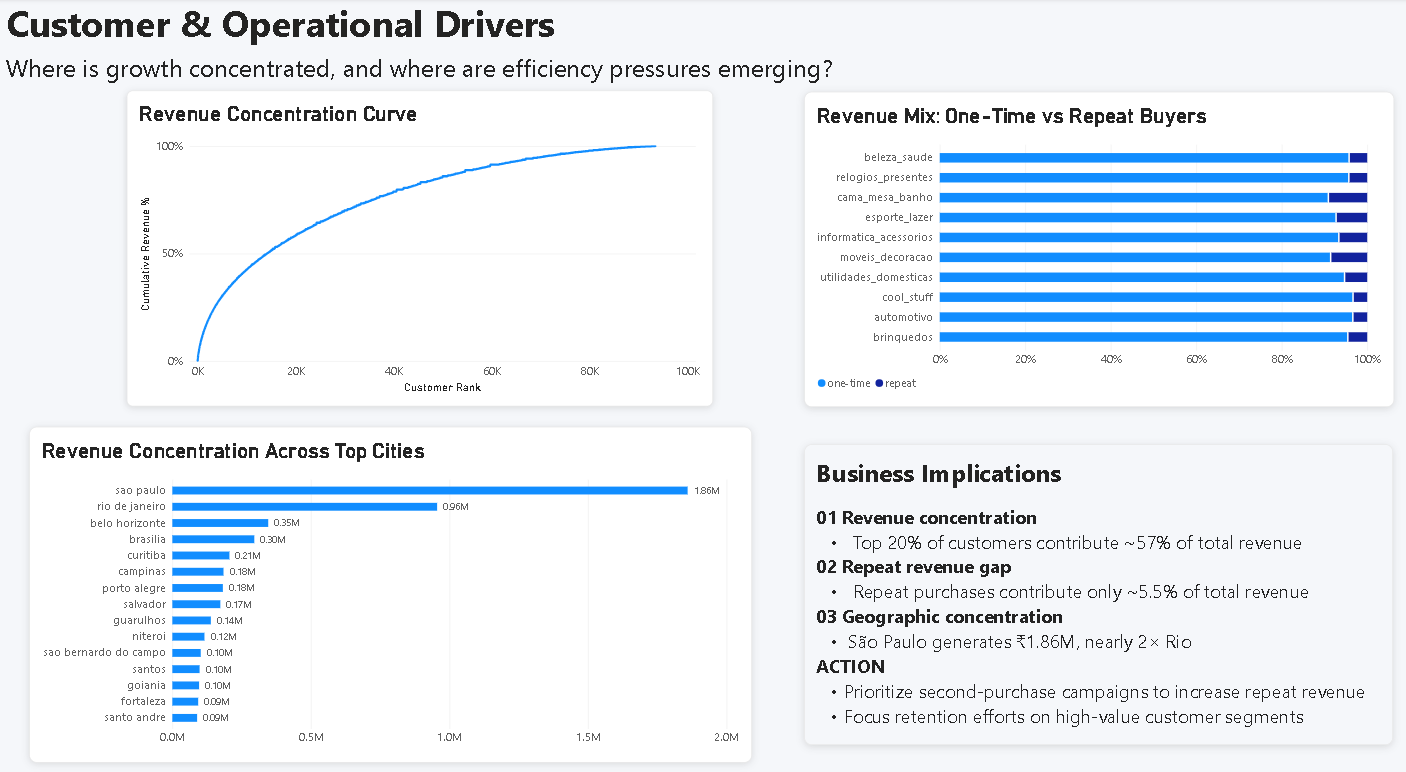

The dashboard page shown, as its layout file describes it:
{"tool":"powerbi","page":{"name":"Customer & Operational Drivers","canvas":[1920,1080],"ordinal":1},"visuals":[{"type":"textbox","box":[10.9,0,742.6,70.8],"z":0},{"type":"textbox","box":[10.3,70,1117.7,45.3],"z":1000},{"type":"lineChart","title":"Revenue Concentration Curve","fields":{"Category":["Revenue Concentration.Customer Rank"],"Y":["Sum(Revenue Concentration.cumulative_revenue_pct)"]},"box":[194.3,123.5,749.2,415.8],"z":2000},{"type":"hundredPercentStackedBarChart","title":"Revenue Mix: One-Time vs Repeat Buyers","fields":{"Category":["Category Analysis.product_category_name"],"Series":["Category Analysis.customer_type"],"Y":["Sum(Category Analysis.total_revenue)"]},"box":[1064,123.5,778,415.8],"z":3000},{"type":"textbox","box":[1064,566.5,802.6,443],"z":4000},{"type":"clusteredBarChart","title":"Revenue Concentration Across Top Cities","fields":{"Category":["Freight Efficiency .customer_city"],"Y":["Sum(Freight Efficiency .total_revenue)"]},"box":[41.8,566.5,953.3,443],"z":5000}]}

Visuals, with their boxes in screenshot pixels (x1, y1, x2, y2), scaled from the page's 1920x1080 canvas onto the 1406x772 screenshot:
textbox: 8:0:552:51
textbox: 8:50:826:82
"Revenue Concentration Curve" lineChart: 142:88:691:385
"Revenue Mix: One-Time vs Repeat Buyers" hundredPercentStackedBarChart: 779:88:1349:385
textbox: 779:405:1367:722
"Revenue Concentration Across Top Cities" clusteredBarChart: 31:405:729:722
